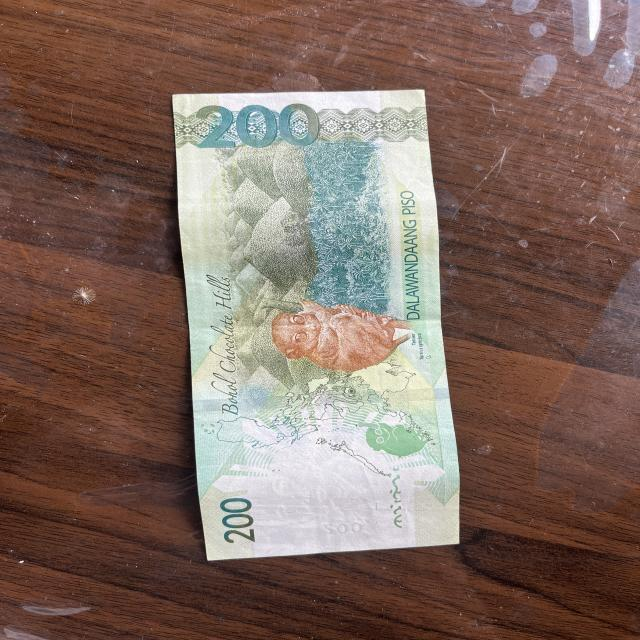200_tarsier: (259, 295, 433, 381)
200_tarsier_watermark: (344, 410, 451, 472)
value_watermark: (309, 514, 373, 543)
watermark: (244, 450, 374, 528)
